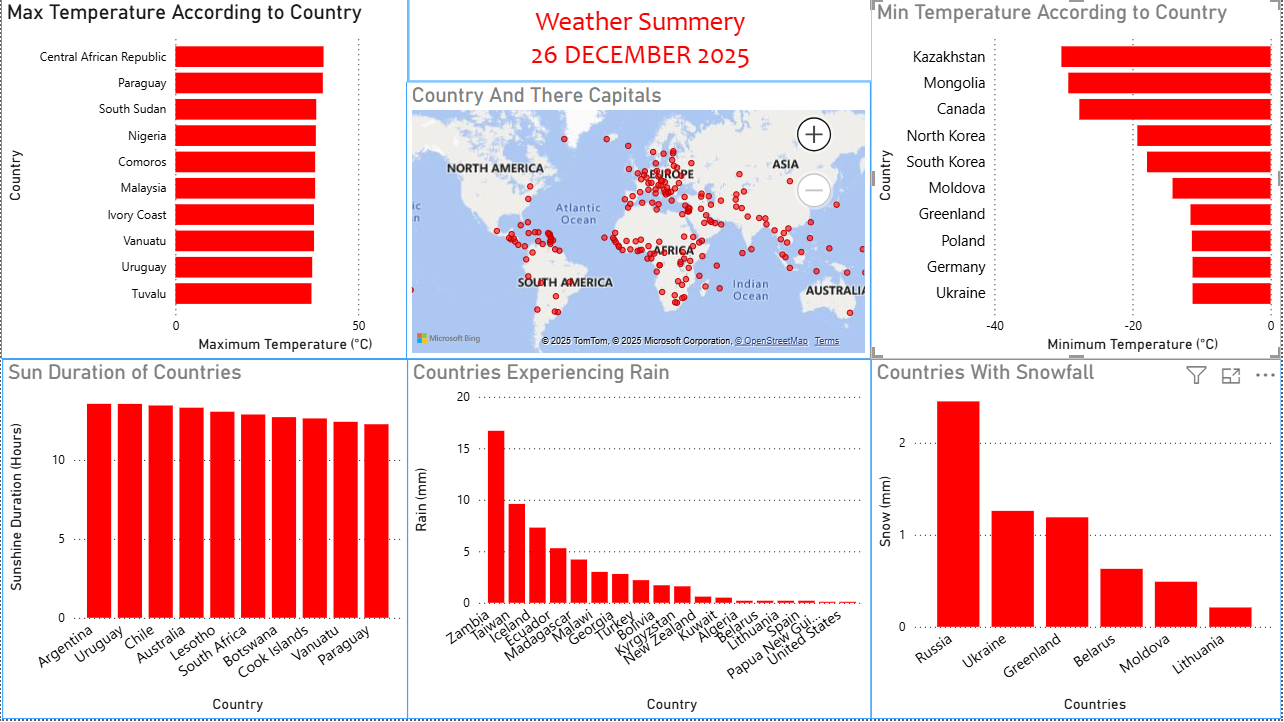

The dashboard page shown, as its layout file describes it:
{"tool":"powerbi","page":{"name":"Page 1","canvas":[1280,720],"ordinal":0},"visuals":[{"type":"textbox","box":[82,322,280,280],"z":1},{"type":"textbox","box":[408,0,464,82],"z":2},{"type":"clusteredBarChart","title":"Max Temperature According to Country","fields":{"Y":["Sum(history_latest.app_temp_max_c)"],"Category":["history_latest.country"]},"box":[0,0,407.3,360],"z":3},{"type":"clusteredBarChart","title":"Min Temperature According to Country","fields":{"Y":["Sum(history_latest.app_temp_min_c)"],"Category":["history_latest.country"]},"box":[870,0,410,360],"z":4},{"type":"map","title":"Country And There Capitals","fields":{"Y":["history_latest.lat"],"X":["history_latest.lon"]},"box":[405.5,82.7,464.5,277.3],"z":5},{"type":"clusteredBarChart","title":"Sun Duration of Countries","fields":{"Y":["Sum(history_latest.sunshine_duration_s)"],"Category":["history_latest.country"]},"box":[0.9,360,405.5,360],"z":6},{"type":"clusteredBarChart","title":"Countries With Snowfall","fields":{"Y":["Sum(history_latest.snow_mm)"],"Category":["history_latest.country"]},"box":[870,360,410,360],"z":7},{"type":"columnChart","title":"Countries Experiencing Rain","fields":{"Category":["history_latest.country"],"Y":["Sum(history_latest.rain_mm)"]},"box":[406.4,360,463.6,360],"z":8}]}

Visuals, with their boxes in screenshot pixels (x1, y1, x2, y2), scaled from the page's 1280x720 canvas onto the 1284x722 screenshot:
textbox: bbox(82, 323, 363, 604)
textbox: bbox(409, 0, 875, 82)
"Max Temperature According to Country" clusteredBarChart: bbox(0, 0, 409, 361)
"Min Temperature According to Country" clusteredBarChart: bbox(873, 0, 1283, 361)
"Country And There Capitals" map: bbox(407, 83, 873, 361)
"Sun Duration of Countries" clusteredBarChart: bbox(1, 361, 408, 721)
"Countries With Snowfall" clusteredBarChart: bbox(873, 361, 1283, 721)
"Countries Experiencing Rain" columnChart: bbox(408, 361, 873, 721)
